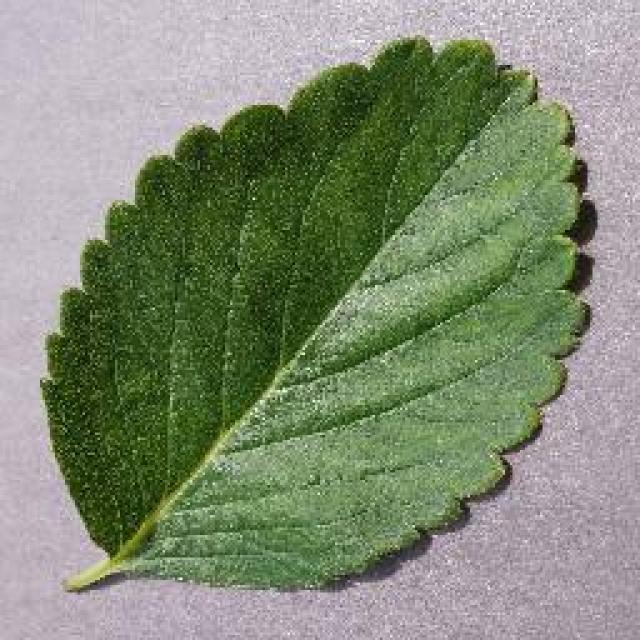Strawberry___healthy: (23, 12, 605, 622)
